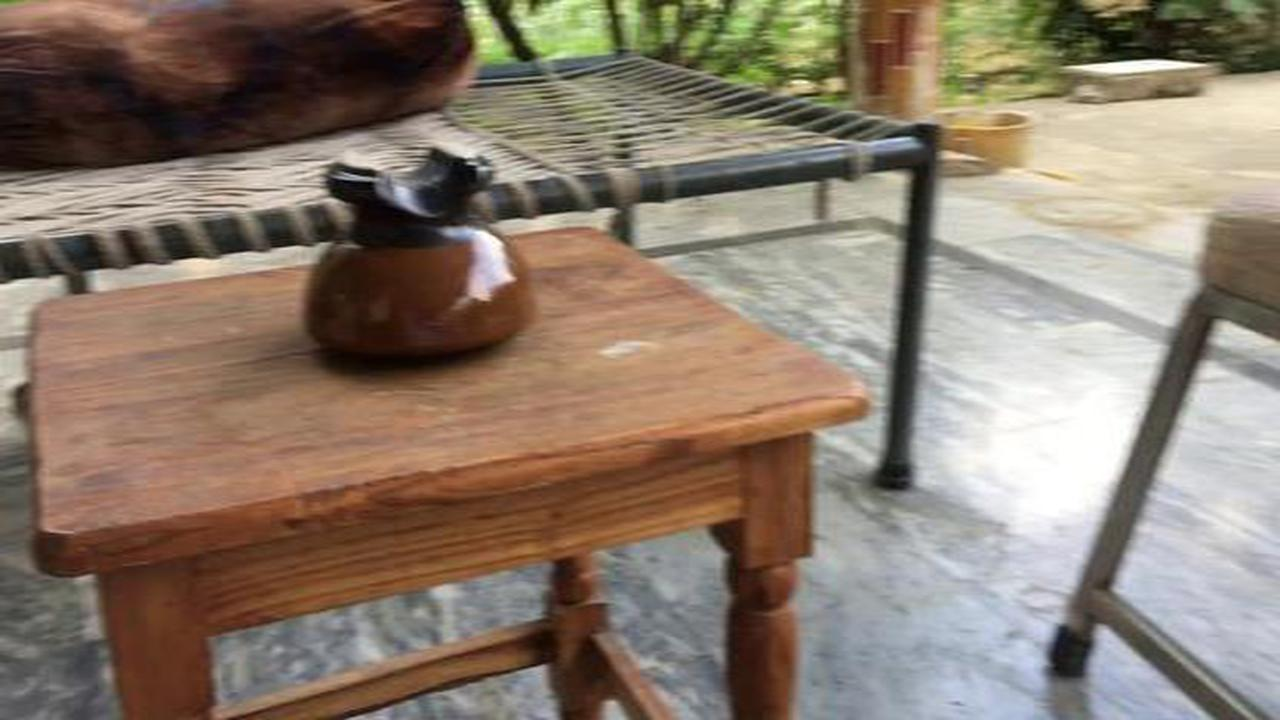insulator_pin: (284, 139, 551, 376)
